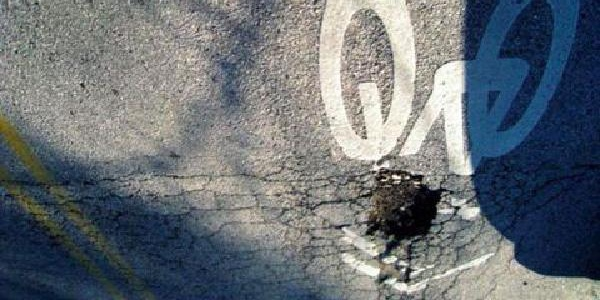pothole: (355, 161, 447, 248)
